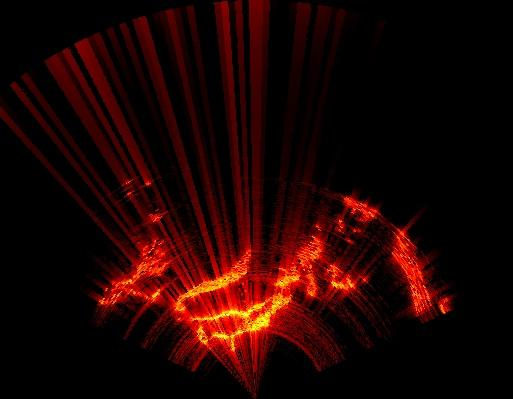shipwreck: (190, 236, 324, 350), (175, 251, 249, 312), (101, 244, 169, 304), (392, 228, 432, 314), (328, 265, 367, 292), (344, 197, 378, 220)
